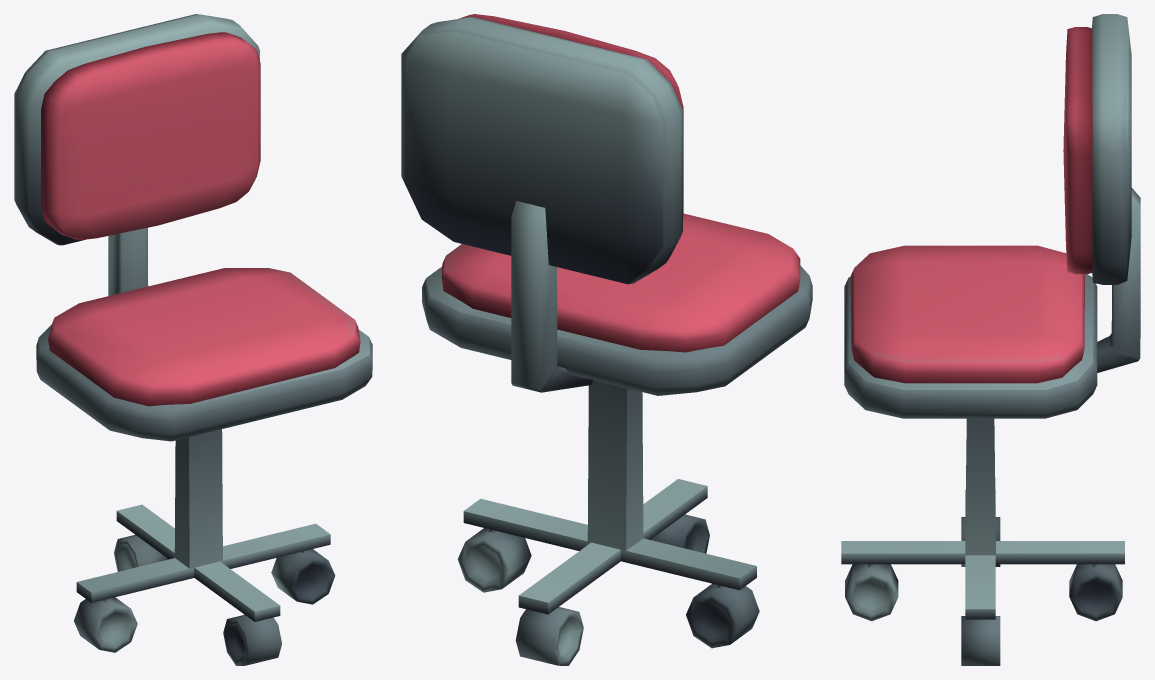
Rendered from mesh_office chair_002.fbx.
3 views of the same model, side by side, from view 1: azimuth 30°, elevation 25°; view 2: azimuth 150°, elevation 25°; view 3: azimuth 270°, elevation 25° (orthographic). The views are drawn at different scales.
Parts seen in each view (by area): view 1: desk_chair; view 2: desk_chair; view 3: desk_chair.
Part boxes in pixels (x1,y1,x2,y2): desk_chair: [14, 14, 372, 665]; desk_chair: [401, 14, 812, 665]; desk_chair: [841, 14, 1140, 665].
Bounding box in the file's own units: 89.72 × 175 × 85.12.
